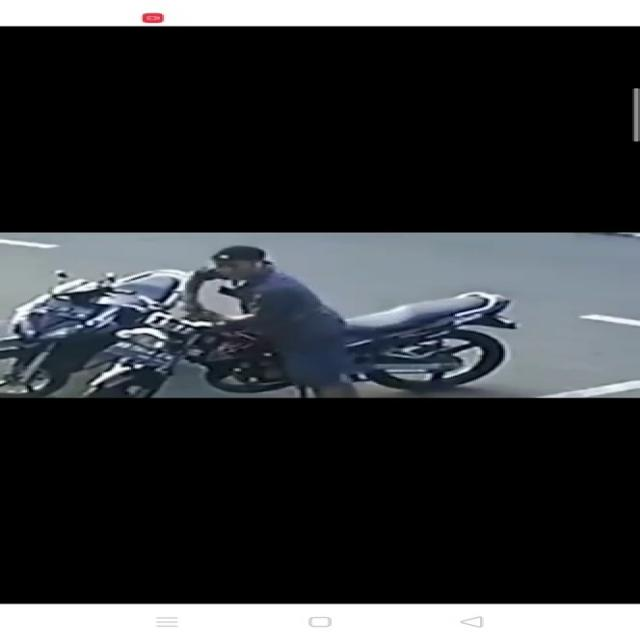pencurian: (112, 246, 503, 396)
